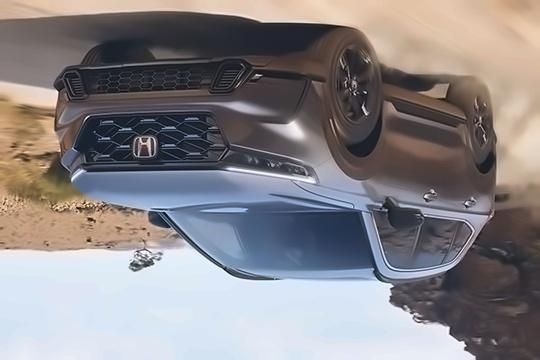Car hood: (67, 168, 355, 214)
Driver-s door - -F-R-: (372, 65, 439, 276)
Fender - -F-R-: (300, 64, 396, 206)
Fender - -R-R-: (459, 136, 504, 214)
Front bumper: (46, 56, 330, 127)
Headlight - -L-: (67, 151, 88, 180)
Headlight - -R-: (217, 147, 322, 185)
Passenger-s door - -R-R-: (409, 67, 480, 280)
Side bumper - -R-: (374, 73, 476, 152)
Side mirror - -R-: (384, 194, 425, 231)
